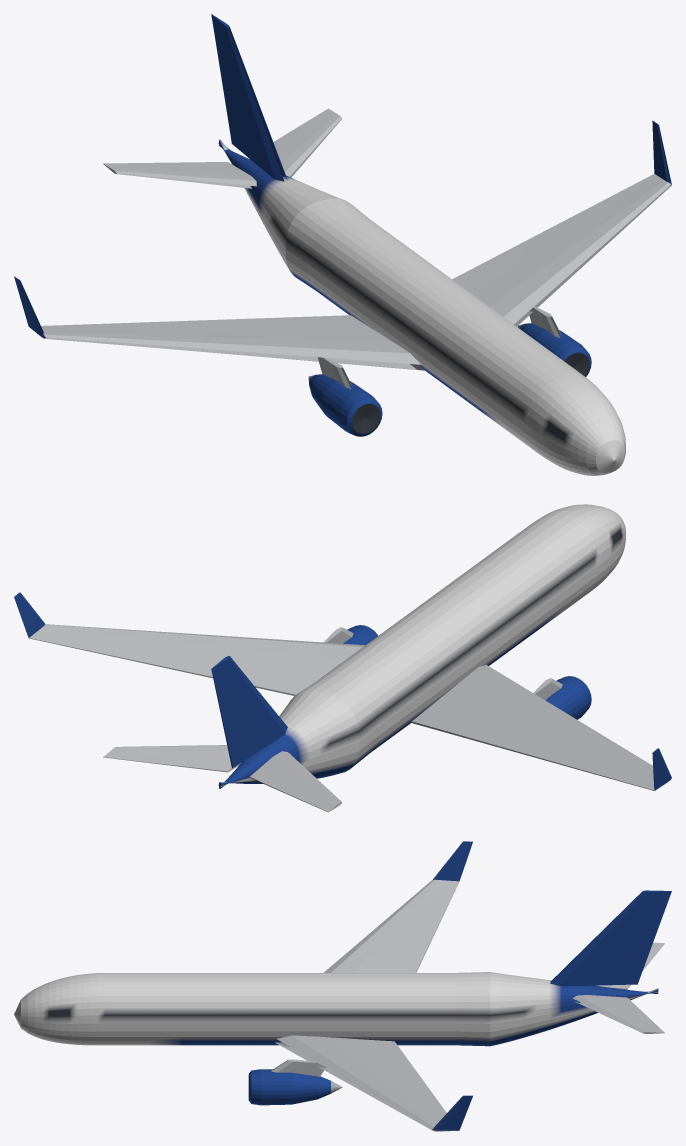
File: airliner_hq.glb
The picture shows the model from 3 angles, top to bottom: view 1: azimuth 30°, elevation 25°; view 2: azimuth 150°, elevation 25°; view 3: azimuth 270°, elevation 25°; orthographic projection. The views are drawn at different scales.
Bounding box in the file's own units: 35.18 × 11.01 × 38.4.
